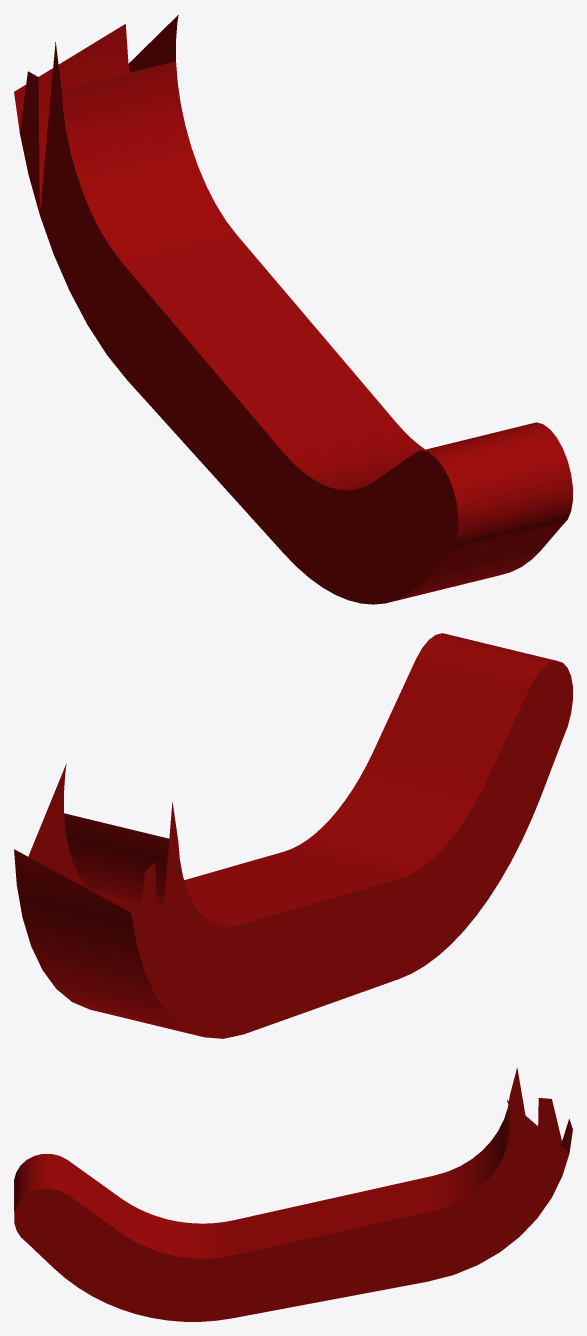
3 views of the same model, one above another, from view 1: azimuth 30°, elevation 25°; view 2: azimuth 150°, elevation 25°; view 3: azimuth 270°, elevation 25° (orthographic). The views are drawn at different scales.
Bounding box in the file's own units: 0.061 × 0.181 × 0.4122.
